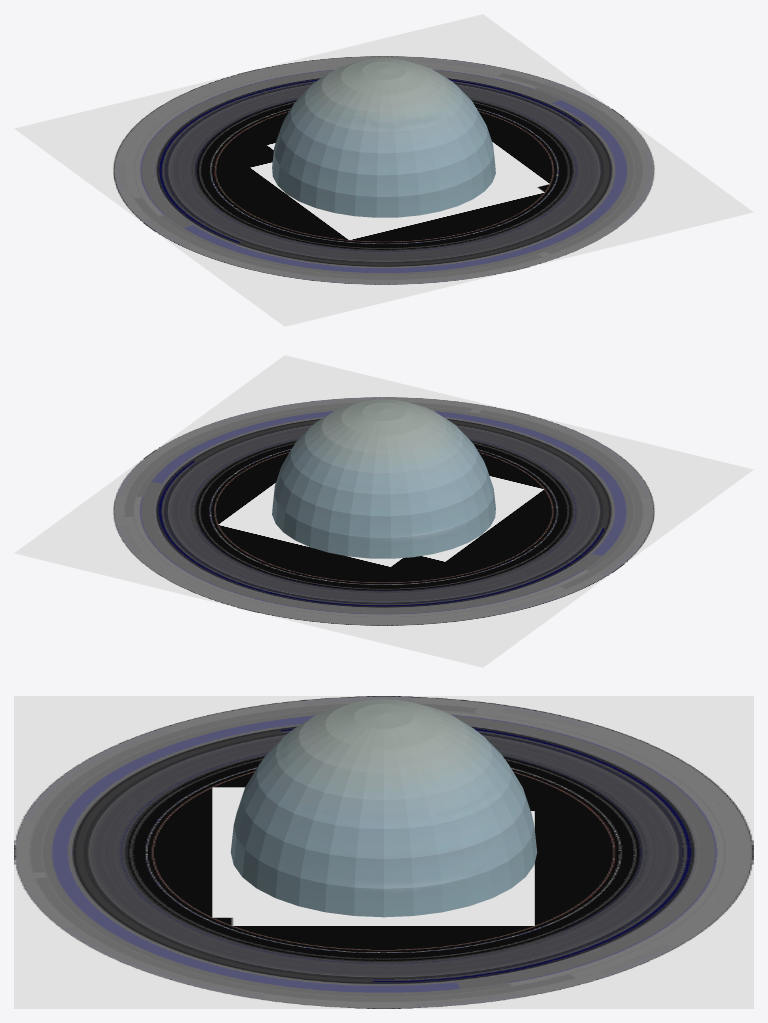
Rendered from uranus_low_poly.obj.
3 views of the same model, one above another, from view 1: azimuth 30°, elevation 25°; view 2: azimuth 150°, elevation 25°; view 3: azimuth 270°, elevation 25° (orthographic). The views are drawn at different scales.
Parts seen in each view (by area): view 1: Plane_Plane.001, Sphere_Sphere.001; view 2: Plane_Plane.001, Sphere_Sphere.001; view 3: Plane_Plane.001, Sphere_Sphere.001.
Part boxes in pixels (x1,y1,x2,y2): Plane_Plane.001: (14,14,753,326); Sphere_Sphere.001: (272,58,495,217); Plane_Plane.001: (14,355,753,667); Sphere_Sphere.001: (272,399,495,558); Plane_Plane.001: (14,696,753,1008); Sphere_Sphere.001: (230,699,537,917).
Bounding box in the file's own units: 4.83 × 2 × 4.83.
